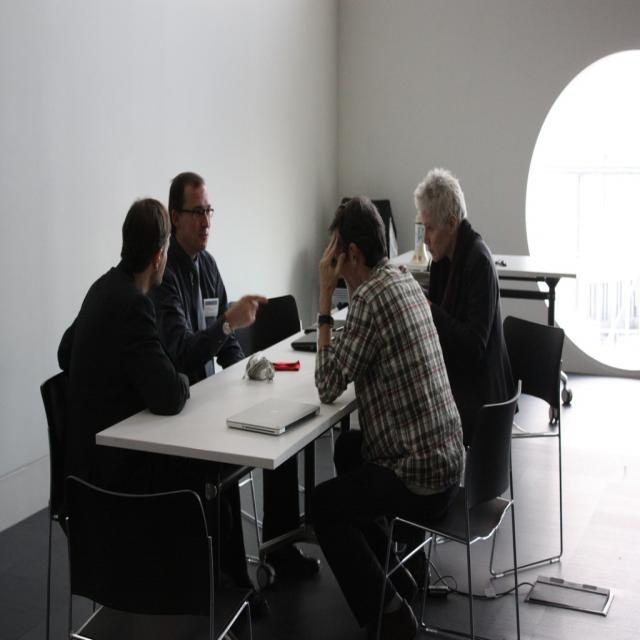chair: (376, 382, 522, 636), (64, 476, 254, 637), (502, 315, 566, 584), (41, 367, 73, 636), (234, 293, 302, 356)
desk: (96, 311, 358, 592)
laptop: (226, 394, 320, 434)
person: (309, 194, 465, 633), (66, 198, 218, 620), (414, 166, 516, 447), (152, 170, 267, 382)
